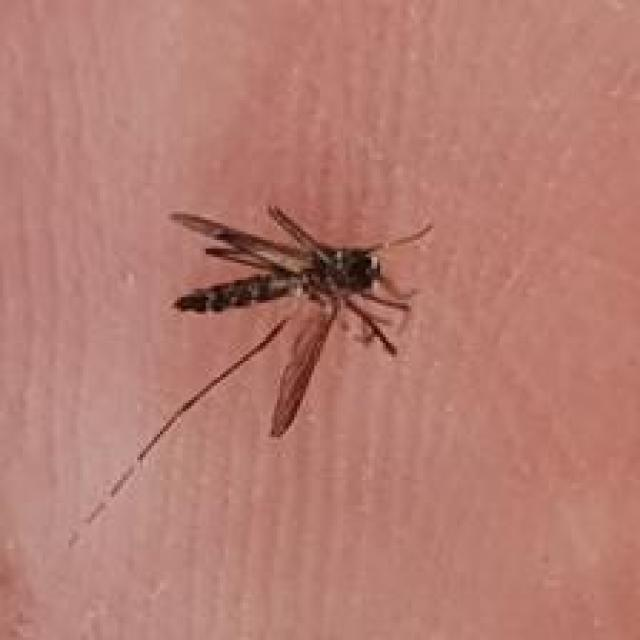Aedes albopictus: (67, 200, 433, 549)
